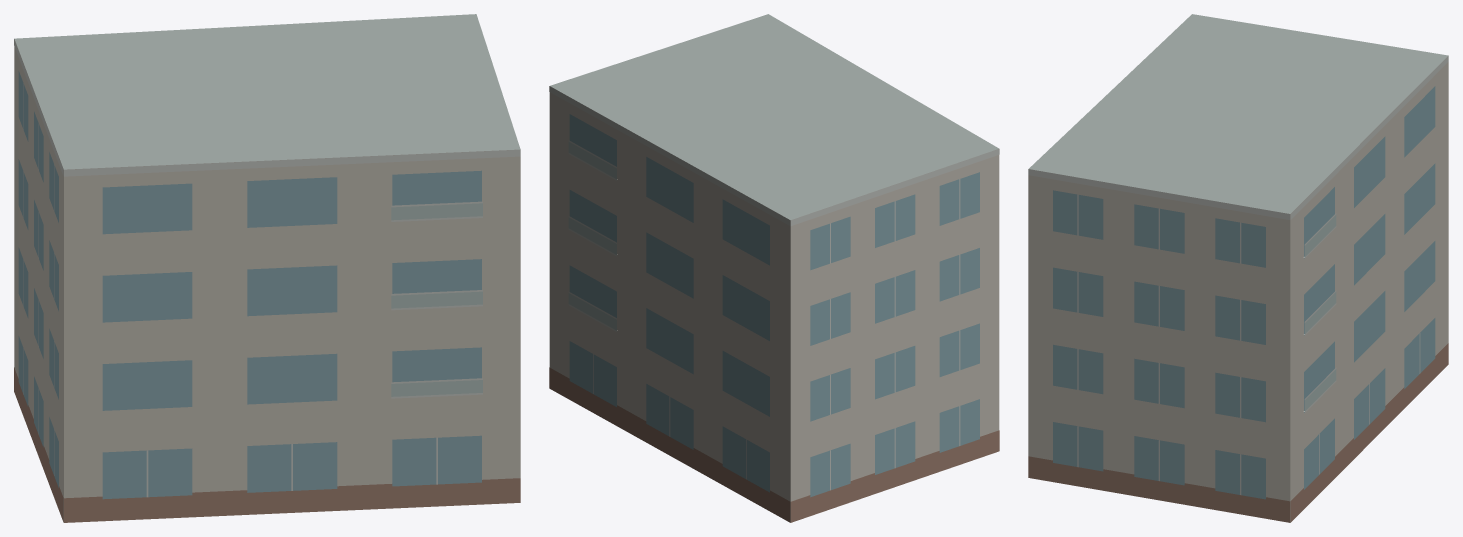
The model's file is survey-upis-32778744.glb.
3 renders of one model, left to right at view 1: azimuth 30°, elevation 25°; view 2: azimuth 150°, elevation 25°; view 3: azimuth 270°, elevation 25°, orthographic. The views are drawn at different scales.
Parts seen in each view (by area): view 1: survey-upis-32778744.tmp; view 2: survey-upis-32778744.tmp; view 3: survey-upis-32778744.tmp.
Part boxes in pixels (x1,y1,x2,y2): survey-upis-32778744.tmp: (14, 14, 520, 522); survey-upis-32778744.tmp: (549, 14, 999, 522); survey-upis-32778744.tmp: (1028, 14, 1448, 522).
Size of the model in its own units: 16.96 by 12.2 by 15.05.
